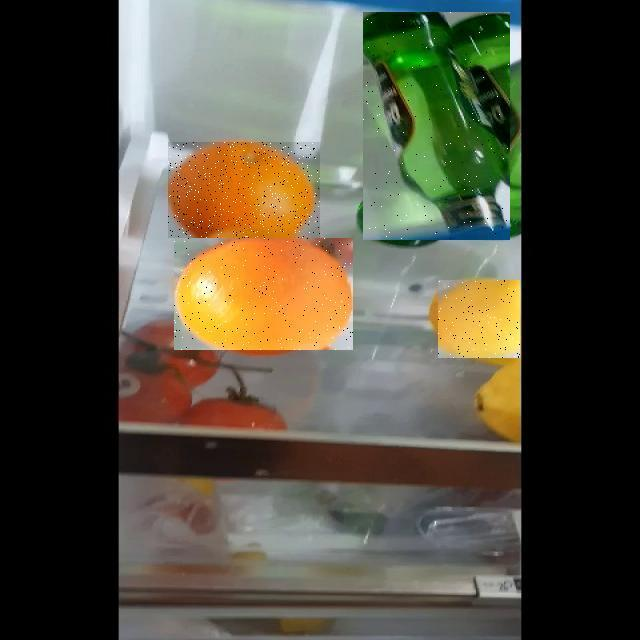Lemon: (439, 280, 521, 358)
Orange: (174, 238, 353, 350), (169, 142, 321, 238)
Water: (363, 12, 510, 240)
